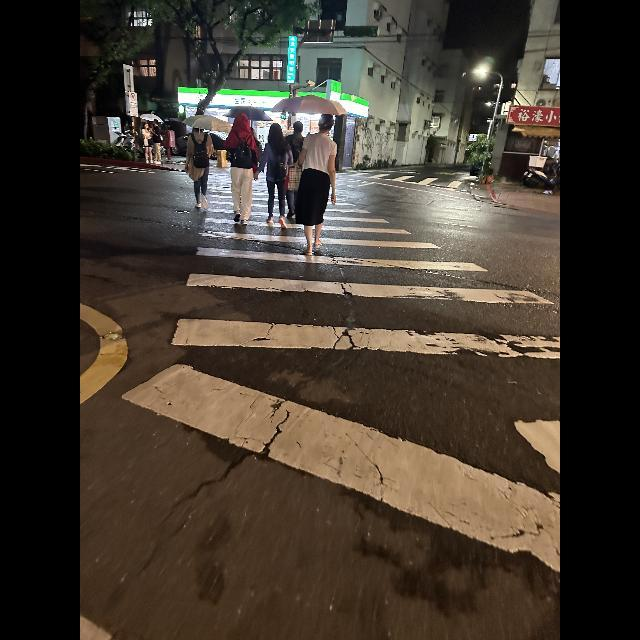sidewalk: (122, 177, 560, 574)
